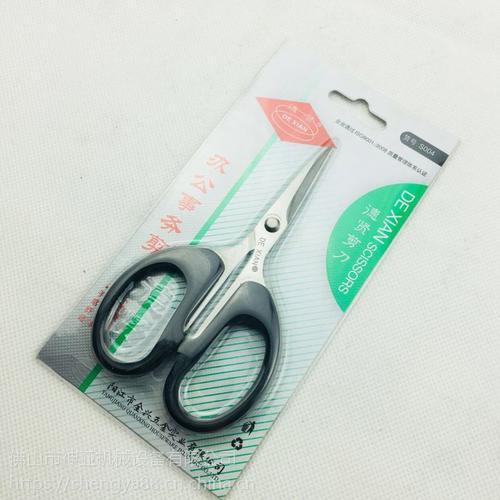scissor: (90, 138, 332, 432)
